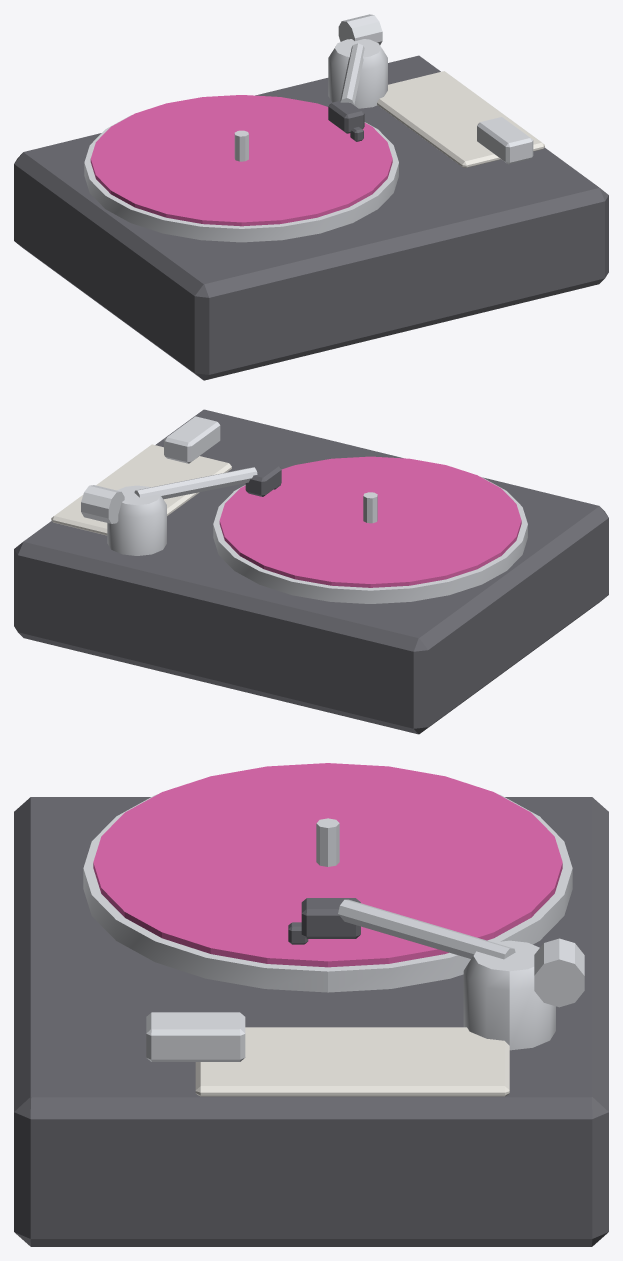
File: nightclub-and-dj-booth-turntable-deck-aa917183.glb
The picture shows the model from 3 angles, top to bottom: view 1: azimuth 30°, elevation 25°; view 2: azimuth 150°, elevation 25°; view 3: azimuth 270°, elevation 25°; orthographic projection. The views are drawn at different scales.
Visible parts, largest first — view 1: turntable-deck, platter/mat, platter; view 2: turntable-deck, platter/mat, platter; view 3: turntable-deck, platter/mat, platter.
Part boxes in pixels (x1,y1,x2,y2): turntable-deck: [14, 14, 608, 380]; platter/mat: [90, 95, 392, 226]; platter: [84, 115, 398, 242]; turntable-deck: [14, 409, 608, 734]; platter/mat: [219, 456, 521, 587]; platter: [213, 476, 527, 603]; turntable-deck: [14, 797, 608, 1246]; platter/mat: [93, 763, 562, 967]; platter: [83, 794, 572, 992].
Bounding box in the file's own units: 0.45 × 0.164 × 0.36.
